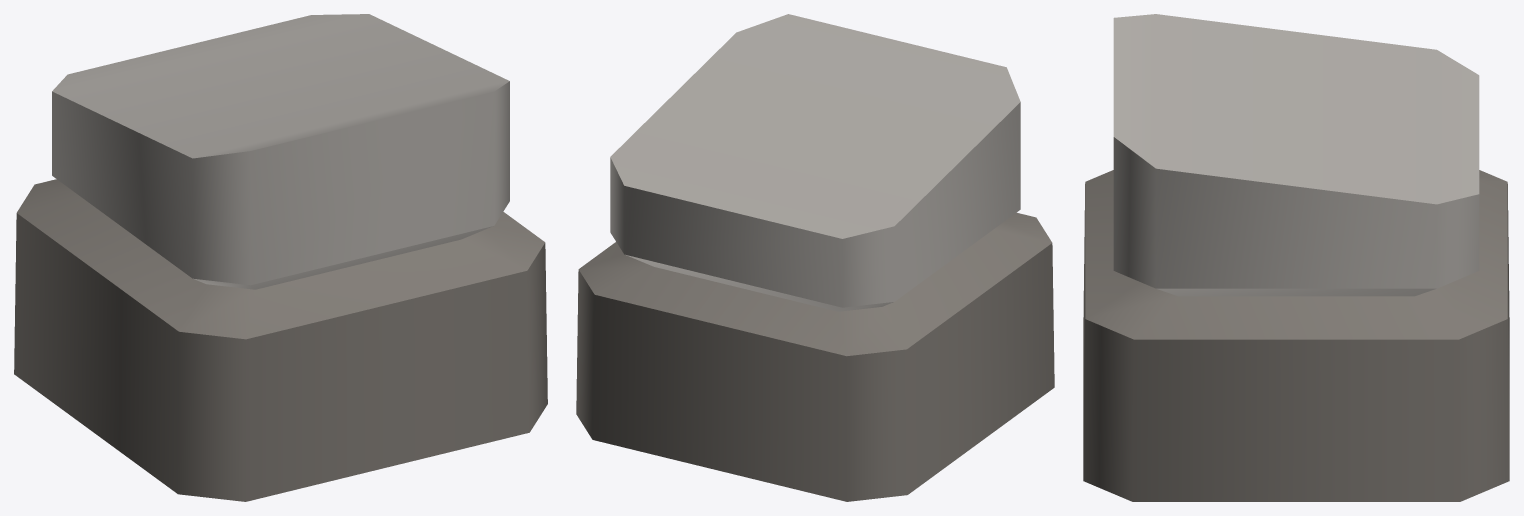
Rendered from Pillar 03.FBX.
3 renders of one model, left to right at view 1: azimuth 30°, elevation 25°; view 2: azimuth 150°, elevation 25°; view 3: azimuth 270°, elevation 25°, orthographic. The views are drawn at different scales.
Parts seen in each view (by area): view 1: Pillar 03; view 2: Pillar 03; view 3: Pillar 03.
Part boxes in pixels (x1,y1,x2,y2): Pillar 03: (14, 14, 547, 501); Pillar 03: (576, 14, 1054, 501); Pillar 03: (1083, 14, 1509, 501).
Bounding box in the file's own units: 91.25 × 78.96 × 91.25.
Materials: 1 (1 with a texture image).
